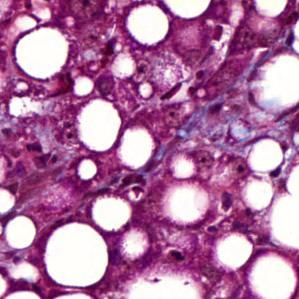steatosis: (39, 222, 113, 289), (16, 25, 68, 81), (74, 103, 121, 150), (125, 4, 169, 46), (245, 138, 289, 172)
